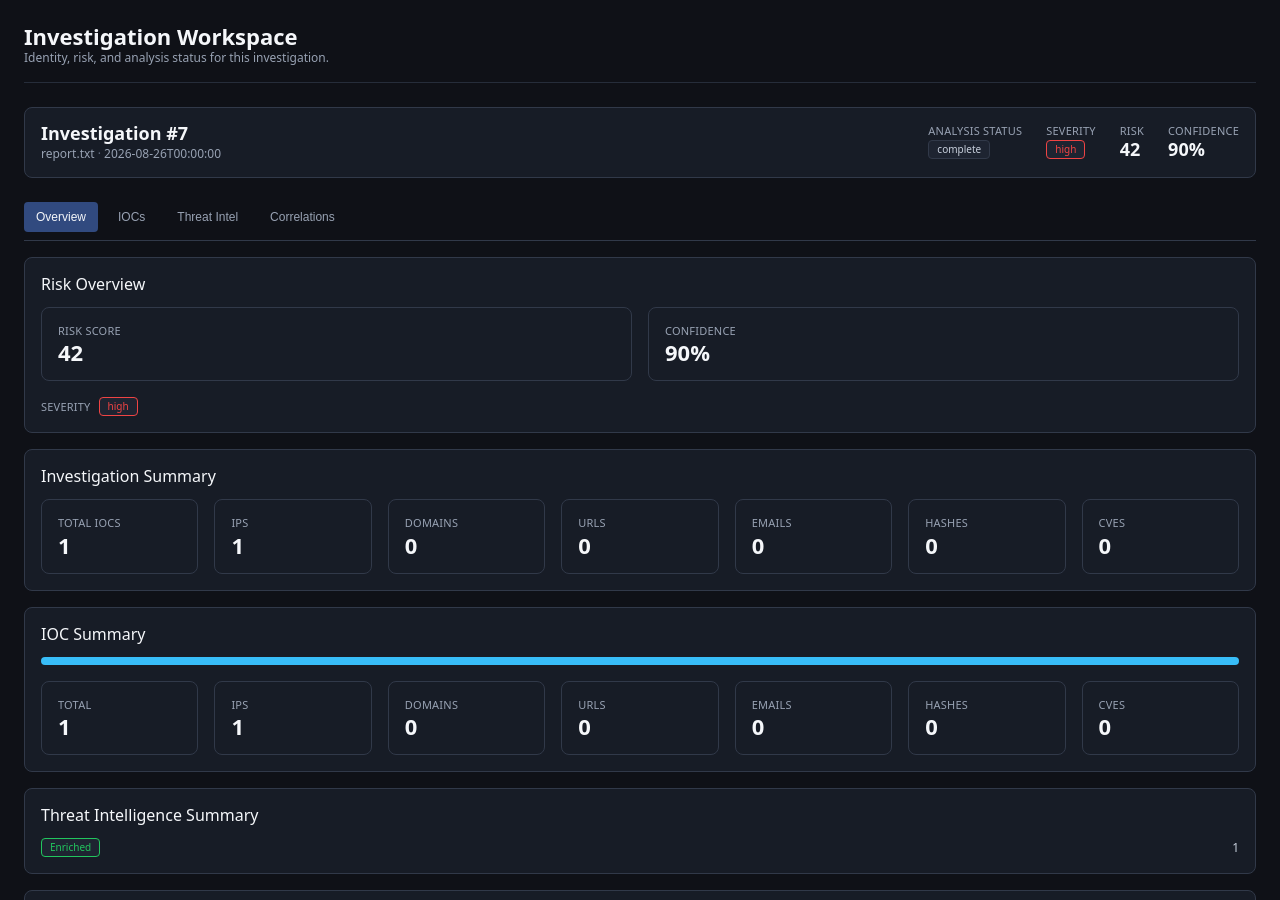
InvestigationWorkspacePage › Threat Intel tab (Part 3A) › selects the Threat Intel tab and renders the real TI foundation, replacing the Overview content
Click the tab "Threat Intel".
click(208, 217)  # box [165,202,250,232]
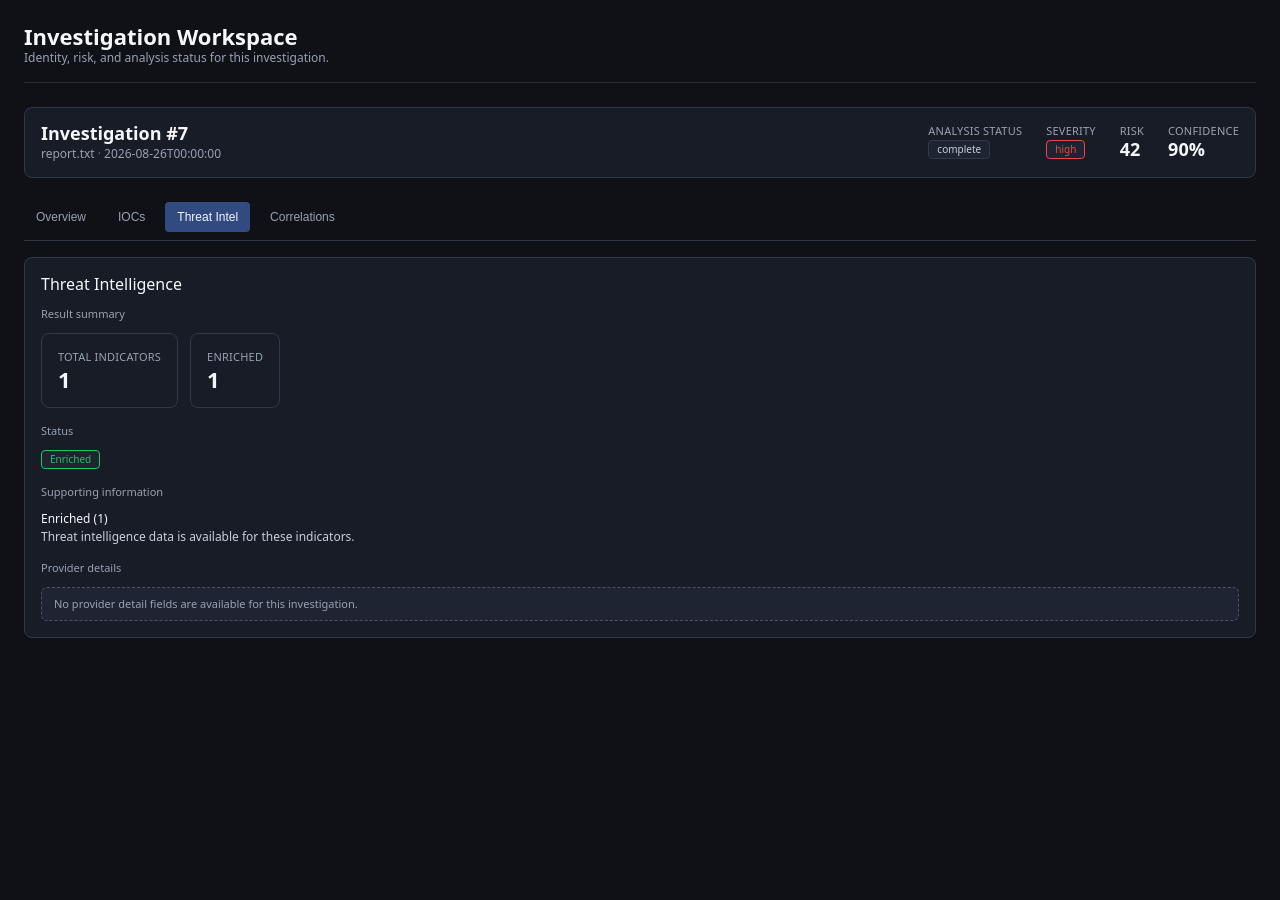
Expected: the element with class "investigation-threat-intel" is shown, [24,257,1256,638]
Expected: the element with class "investigation-overview-risk" is gone
Expected: the element with class "investigation-threat-intel" shows "Enriched", [207,349,263,364]
